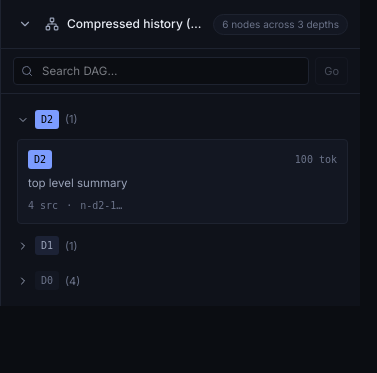
Test: <DagPanel /> › search with no hits shows 'No matches' inline
Type "missing" into the field with test id "dag-search-input" at (161,71), box [13,57,309,85]
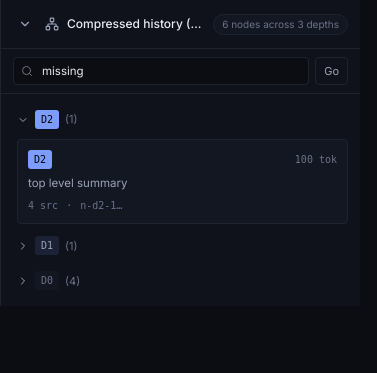
Click the button with test id "dag-search-submit" at (332,71), box [315,57,348,85]
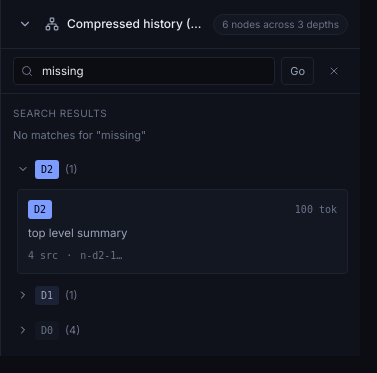
Check: the text "No matches for \"missing\"" is shown, box [13,128,146,142]
Check: the text with test id "dag-search-empty" shows "No matches", box [13,128,101,142]
